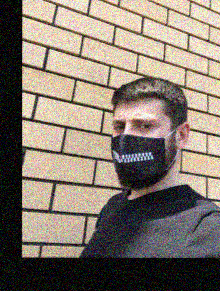with_mask: (109, 109, 168, 189)
